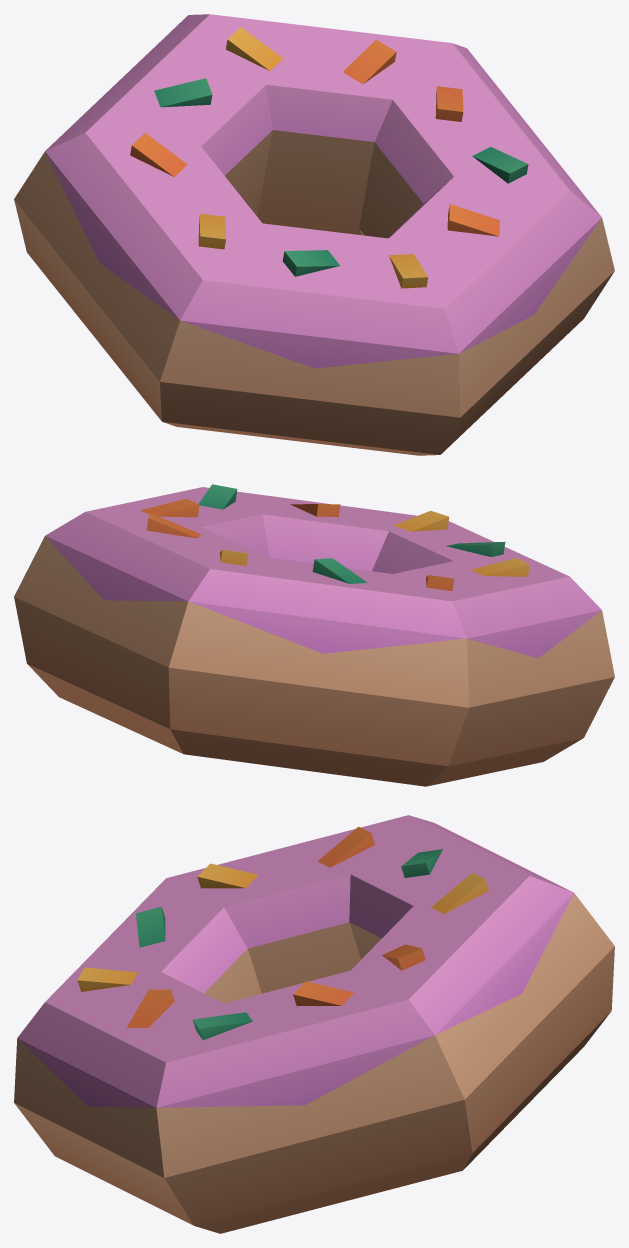
File: donut-sprinkles.glb
3 renders of one model, top to bottom at view 1: azimuth 30°, elevation 25°; view 2: azimuth 150°, elevation 25°; view 3: azimuth 270°, elevation 25°, orthographic. The views are drawn at different scales.
Visible parts, largest first — view 1: geometry_0; view 2: geometry_0; view 3: geometry_0.
Boxes of the visible parts, <box> form: geometry_0: <box>14,14,614,455</box>; geometry_0: <box>14,484,614,786</box>; geometry_0: <box>14,815,614,1233</box>.
Size of the model in its own units: 0.9642 by 0.5864 by 1.07.
